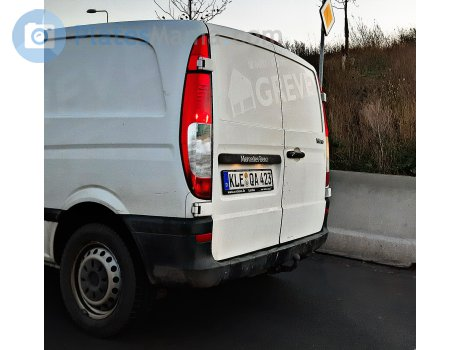License Plates: (224, 171, 279, 190)
